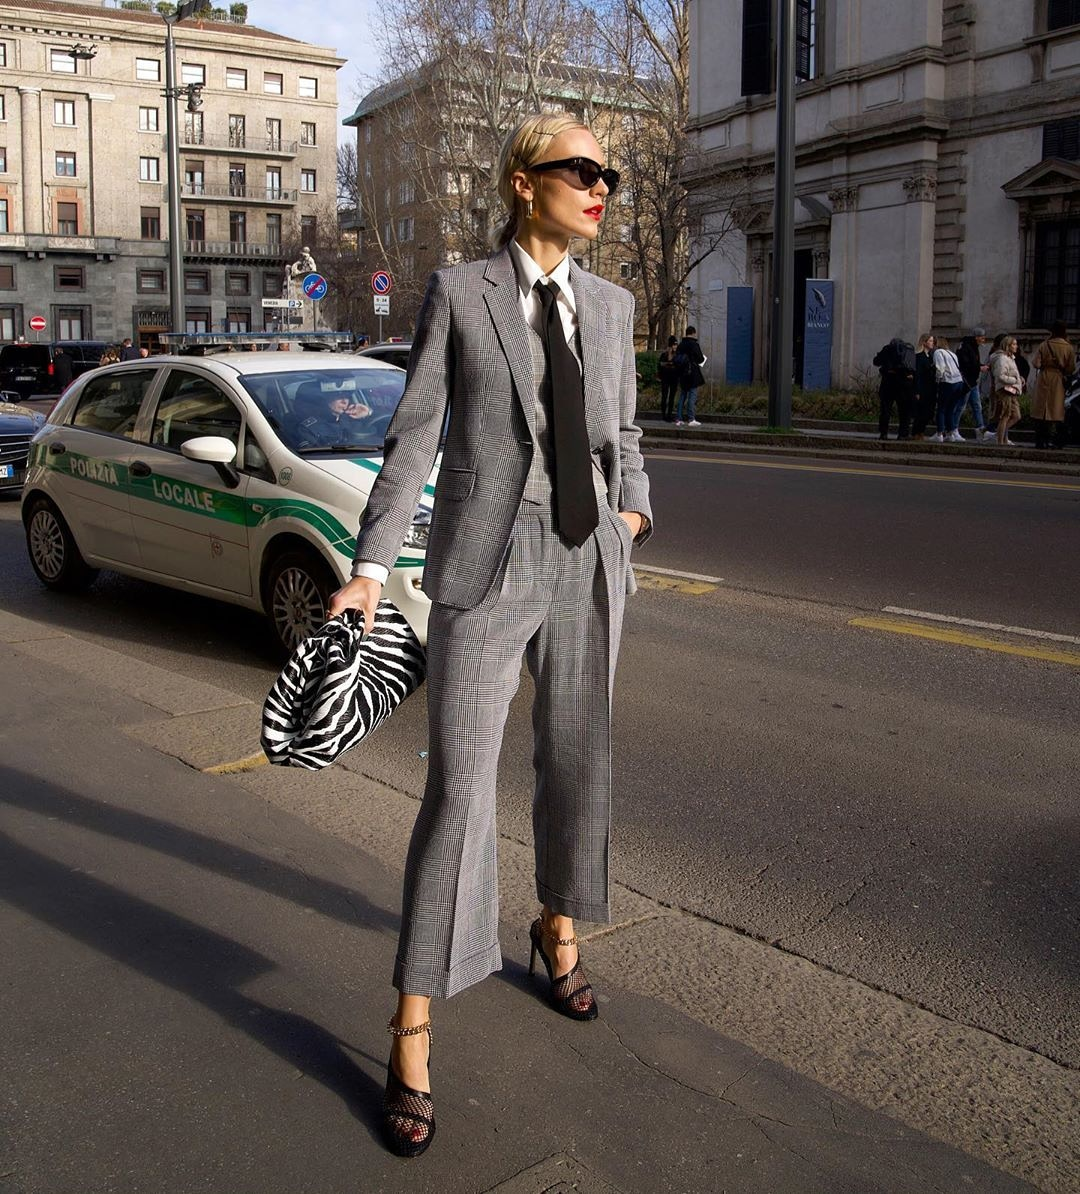glasses: (515, 154, 640, 208)
tie: (515, 272, 631, 559)
